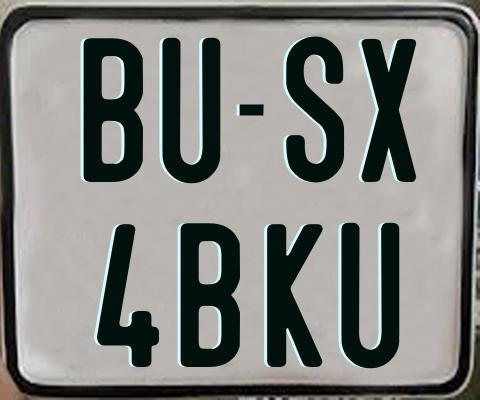4: (95, 224, 163, 371)
B: (82, 36, 145, 183), (181, 222, 241, 366)
K: (266, 222, 325, 369)
S: (283, 35, 347, 182)
U: (341, 223, 404, 371), (162, 37, 220, 187)
X: (359, 37, 415, 181)
